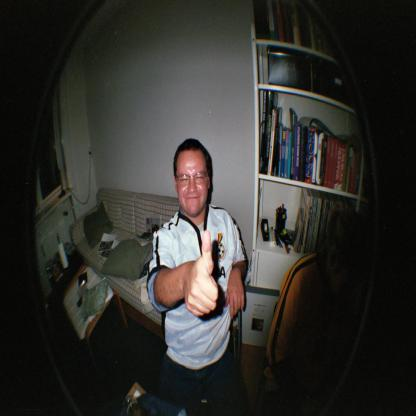book: (256, 87, 366, 192), (256, 0, 336, 58), (291, 188, 357, 252)
